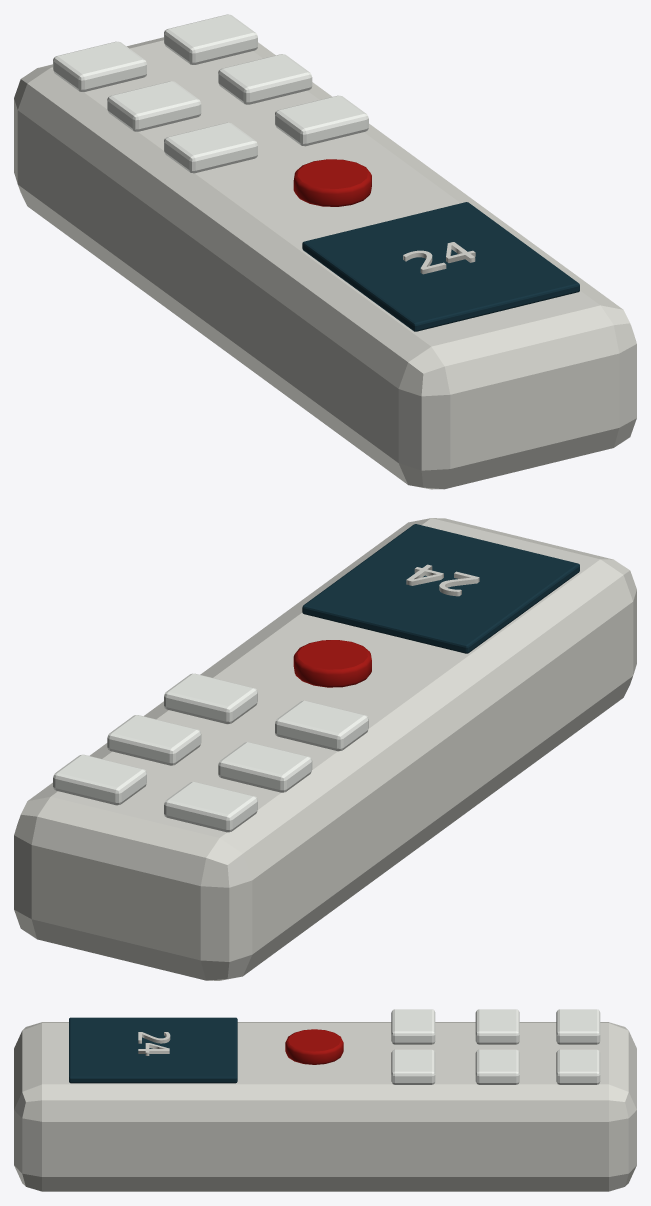
The model's file is OAA_AC_Remote.fbx.
3 renders of one model, top to bottom at view 1: azimuth 30°, elevation 25°; view 2: azimuth 150°, elevation 25°; view 3: azimuth 270°, elevation 25°, orthographic. The views are drawn at different scales.
Parts seen in each view (by area): view 1: Body; view 2: Body; view 3: Body.
Boxes of the visible parts, x1,y1,x2,y2 form: Body: (14, 14, 636, 489); Body: (14, 518, 636, 980); Body: (14, 1009, 636, 1191).
Size of the model in its own units: 0.055 by 0.036 by 0.17.
